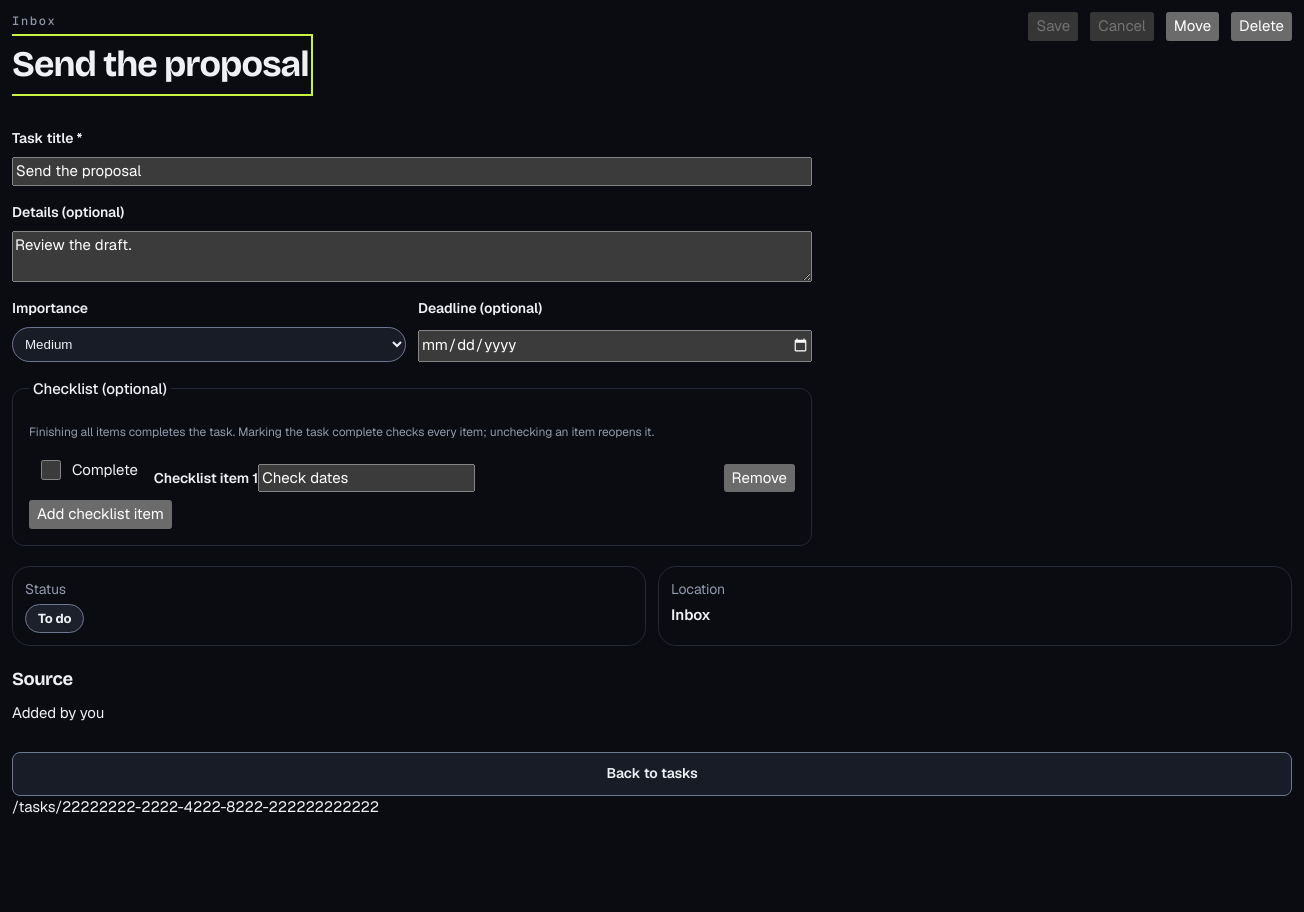
TaskDetailPage › retries an uncertain save with the same idempotency key and clears dirty state on success
Expected: the heading "Send the proposal" is shown, [12,38,309,92]
Clear the field labelled "Task title *": (412, 171) [12,157,812,186]
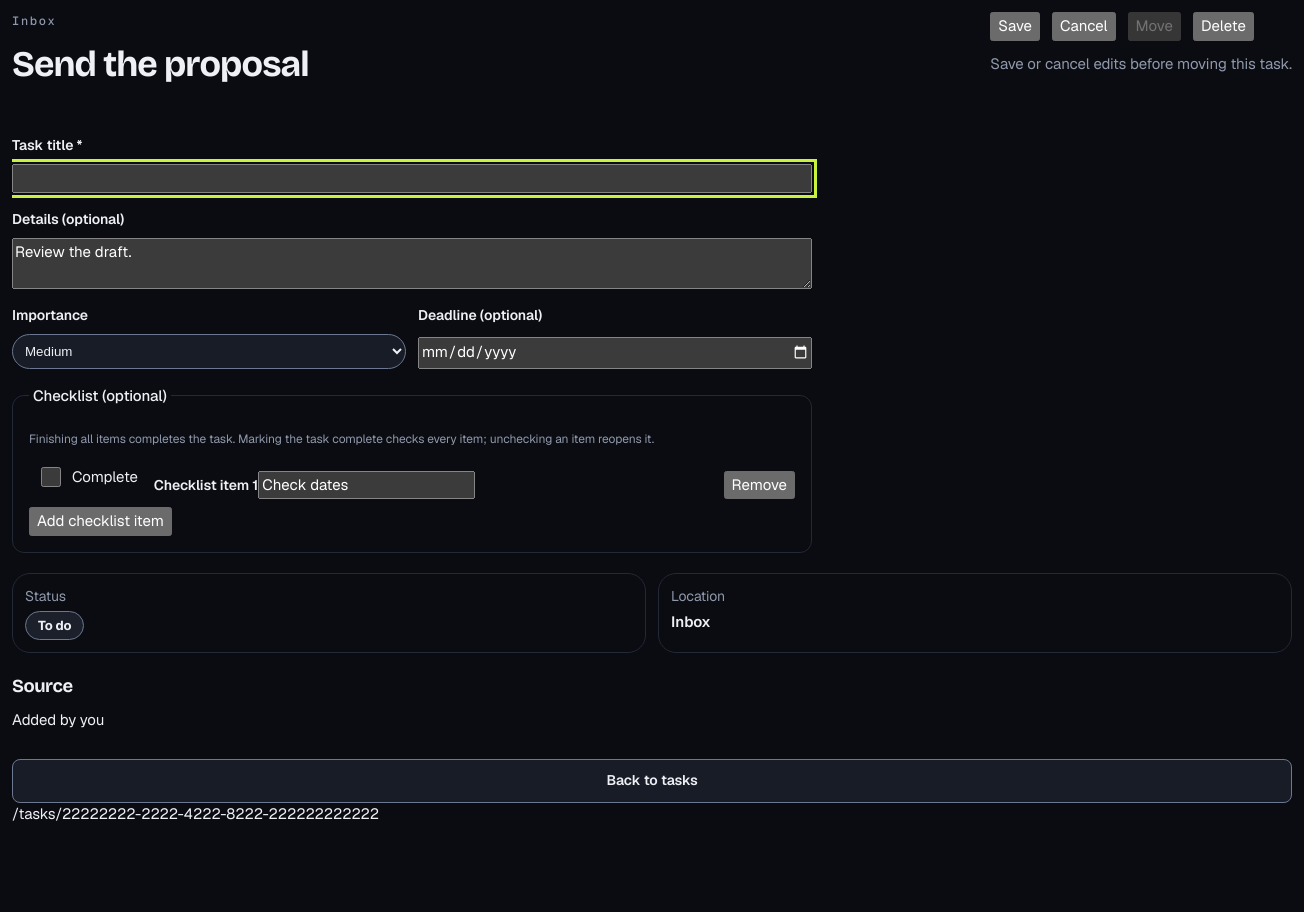
In the field labelled "Task title *": (412, 178) [12,164,812,192], type "Send the saved proposal"
Replace the text in the text box labelled "Details (optional)" with "Preserved details": (412, 263) [12,238,812,288]
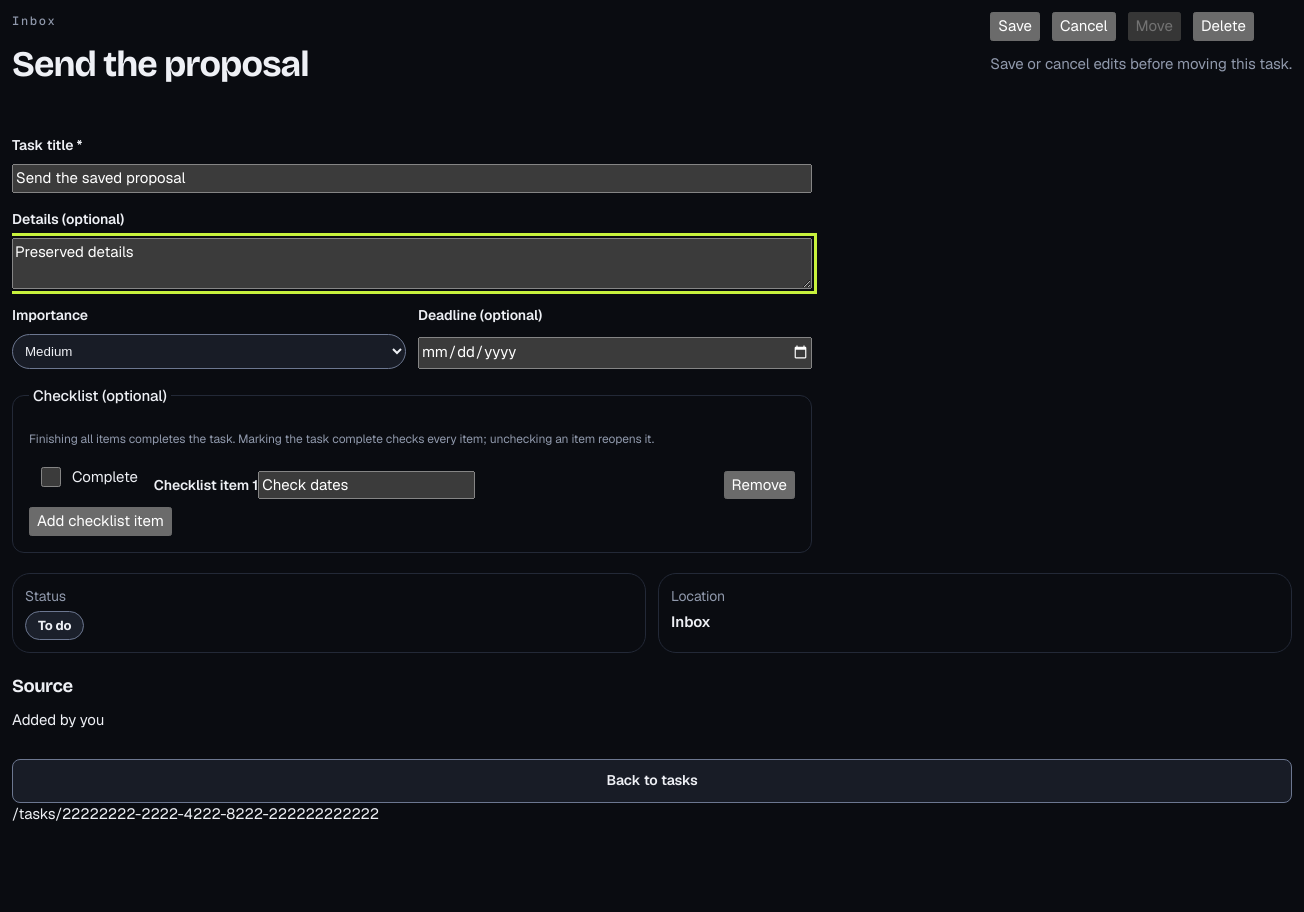
Click the checkbox named "Mark Check dates complete": (51, 477) [41,467,61,487]
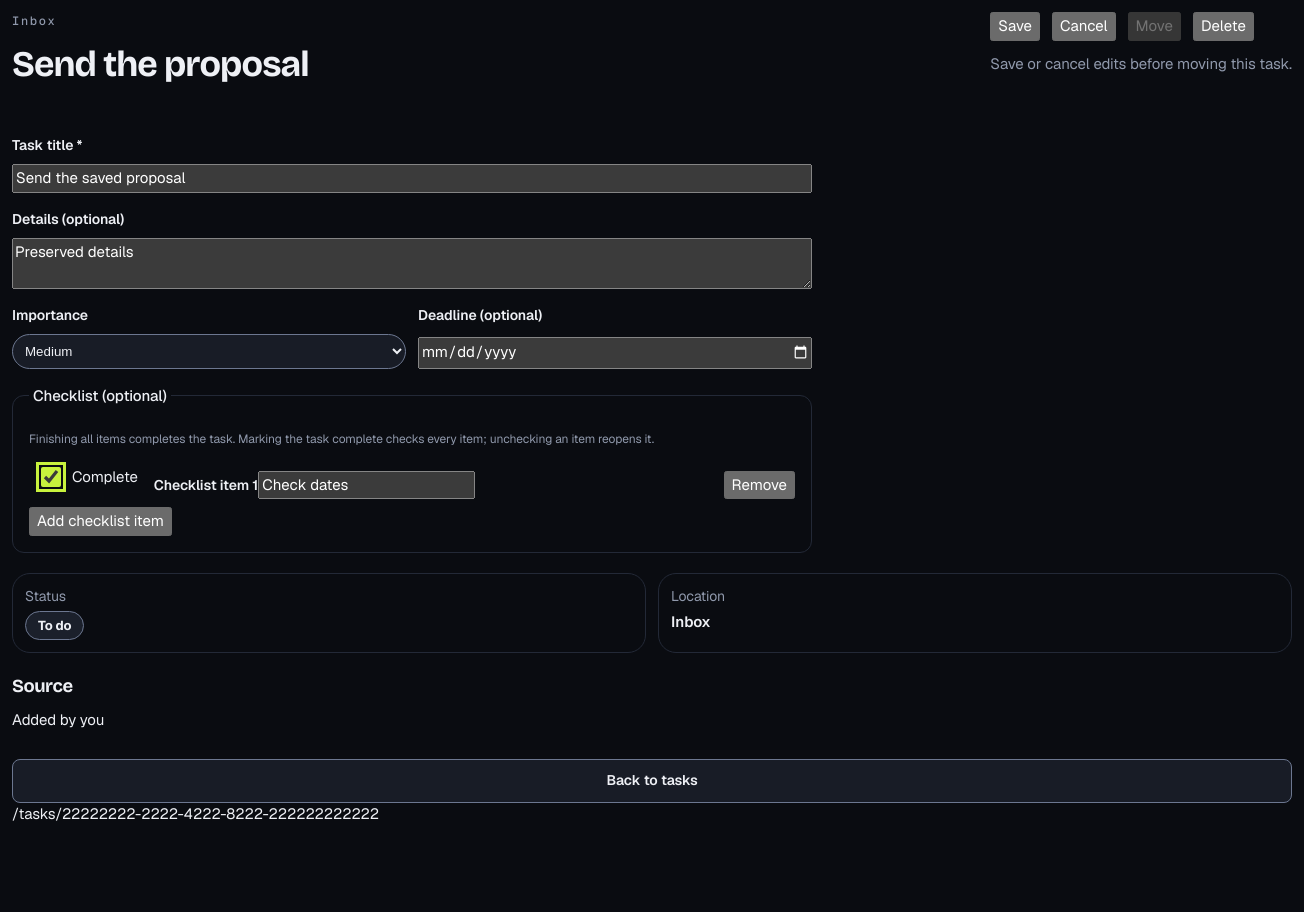
Replace the text in the field labelled "Checklist item 1" with "Send it": (367, 485) [258,470,475,499]
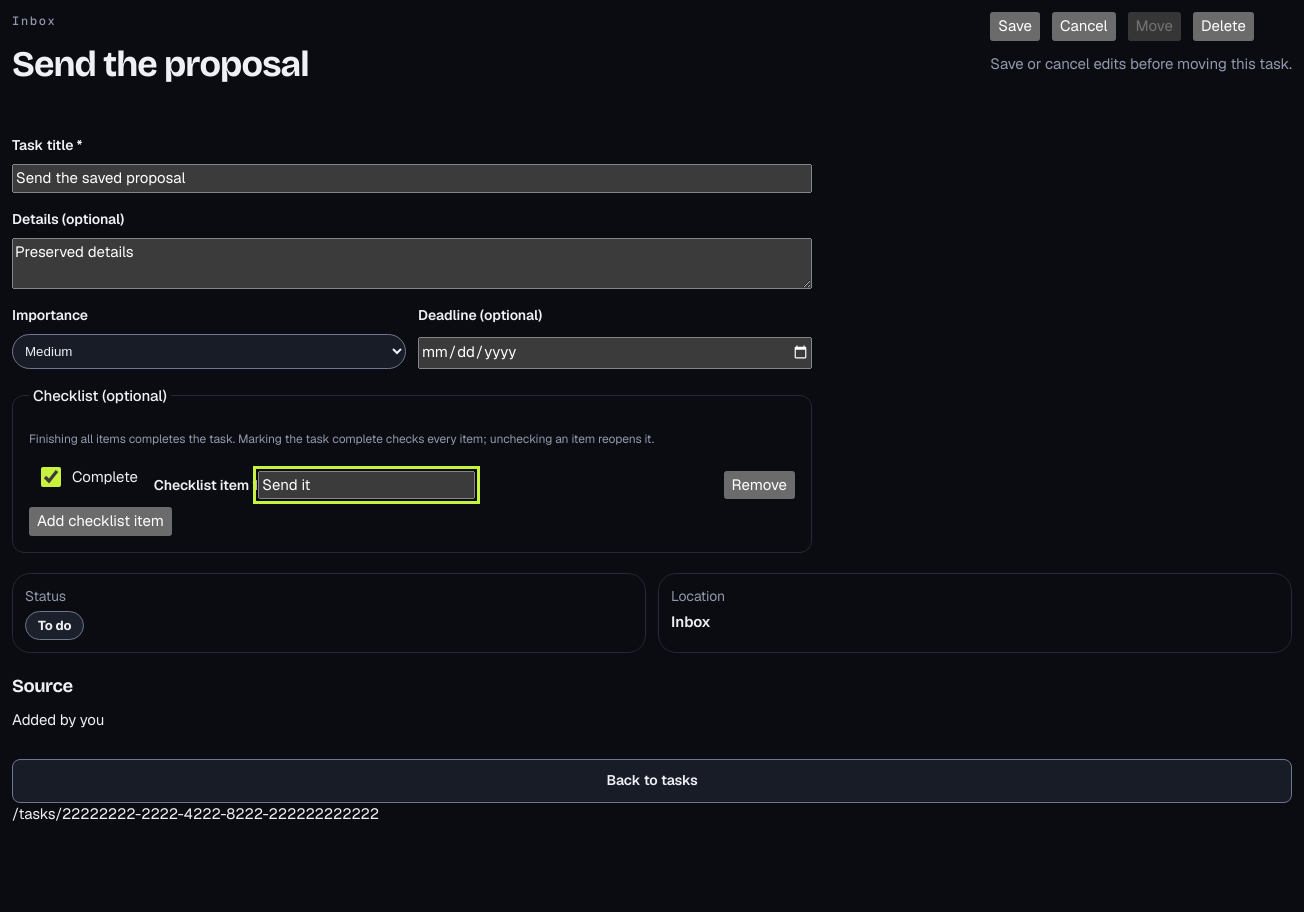
Click the button with test id "task-detail-save": (1015, 26) [990,12,1040,40]
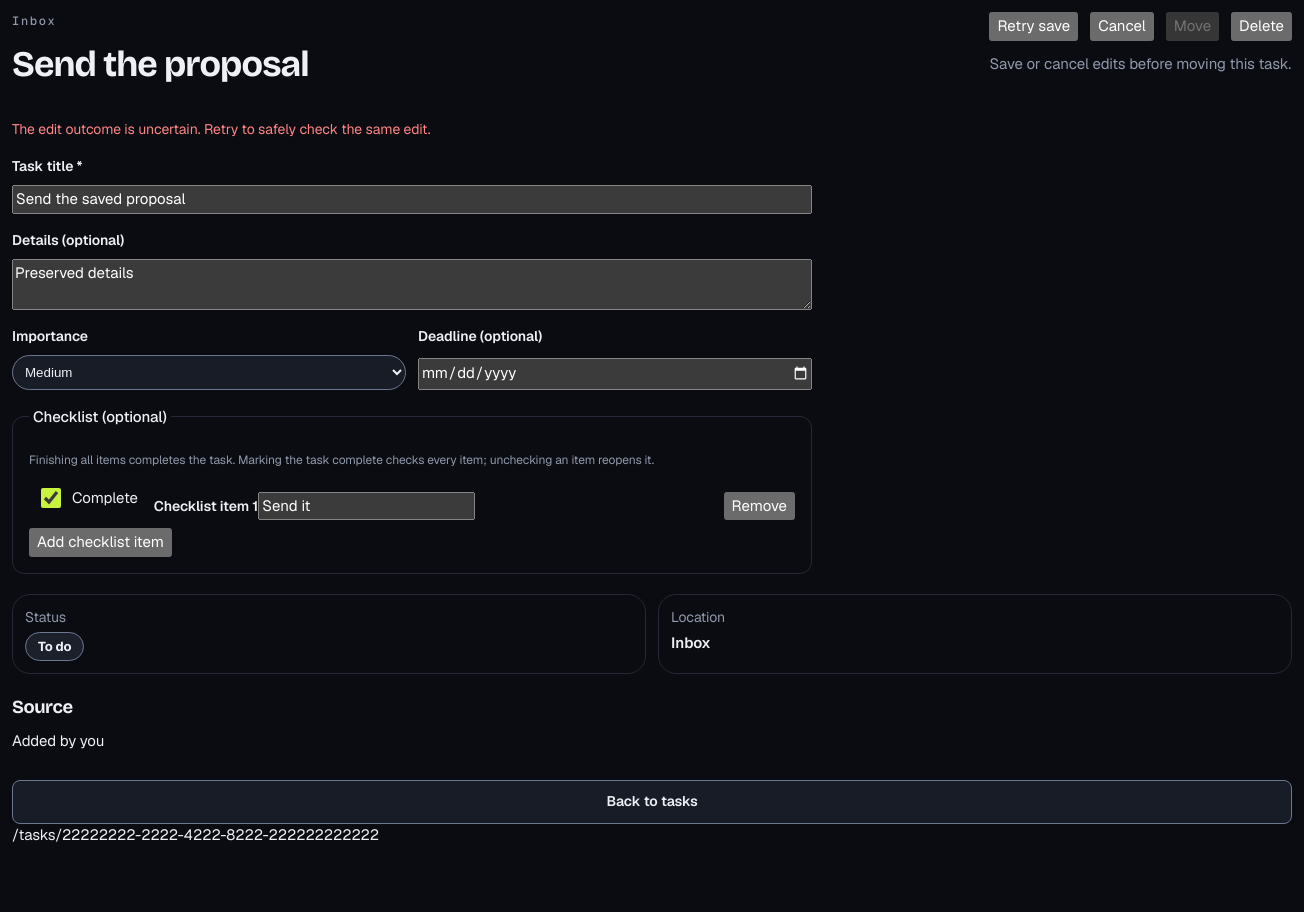
Expected: the checkbox named "Mark Send it complete" is checked, [41,488,61,508]
Expected: the message with test id "task-save-error" shows "outcome is uncertain", [12,120,430,138]
Click the button "Retry save": (1034, 26) [989,12,1078,40]
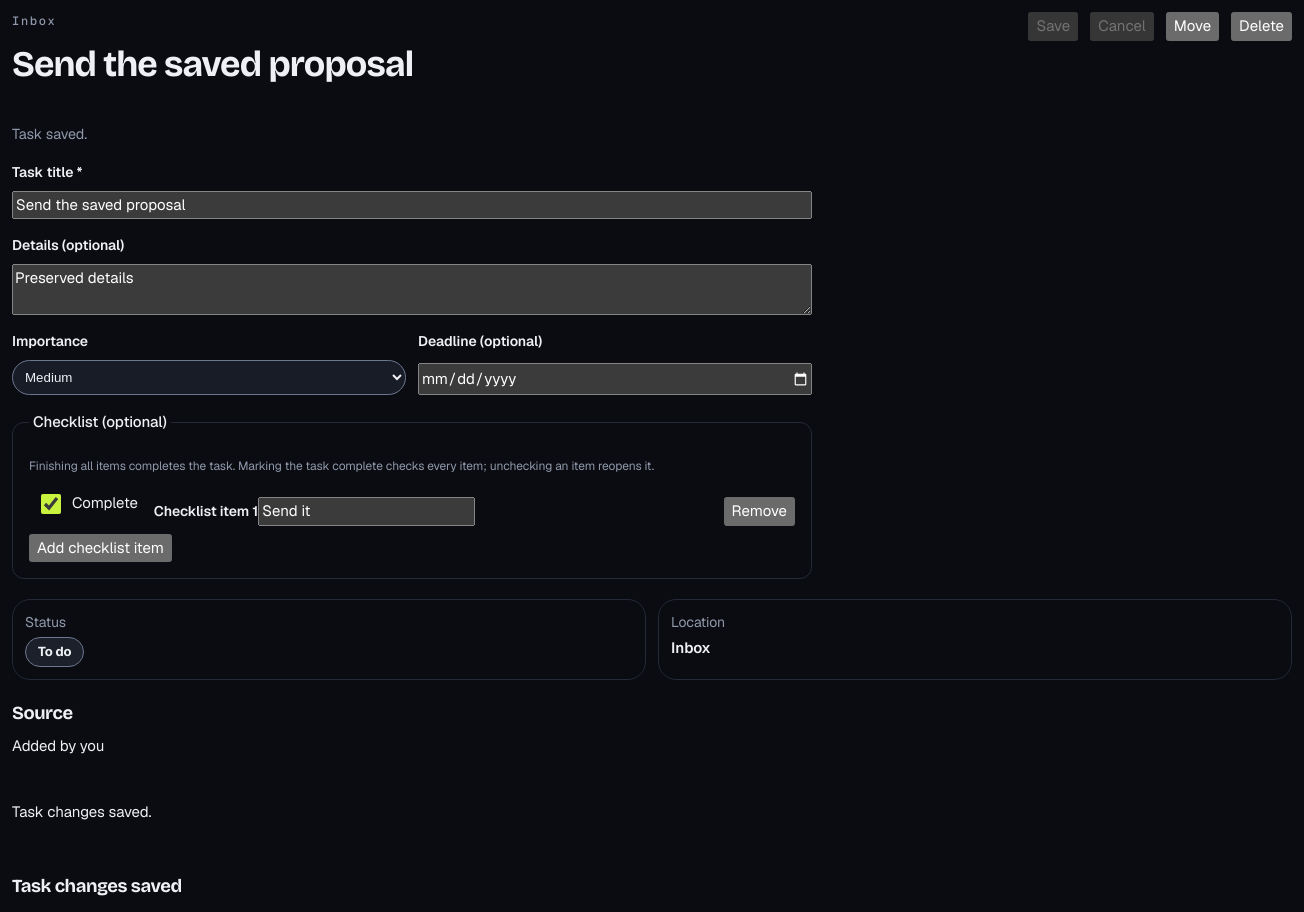
Expected: the message with test id "task-save-notice" reads "Task saved.", [12,125,87,143]
Expected: the button with test id "task-detail-save" is disabled, [1028,12,1078,40]
